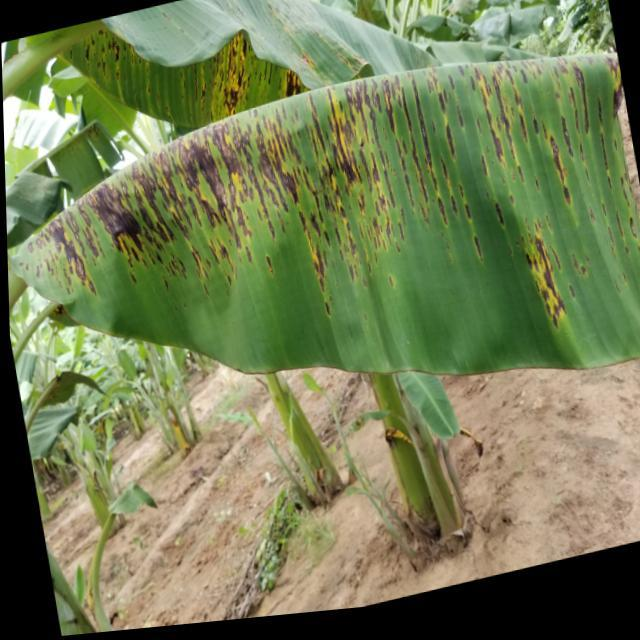Early_rust: (21, 58, 638, 357), (34, 16, 333, 100)
